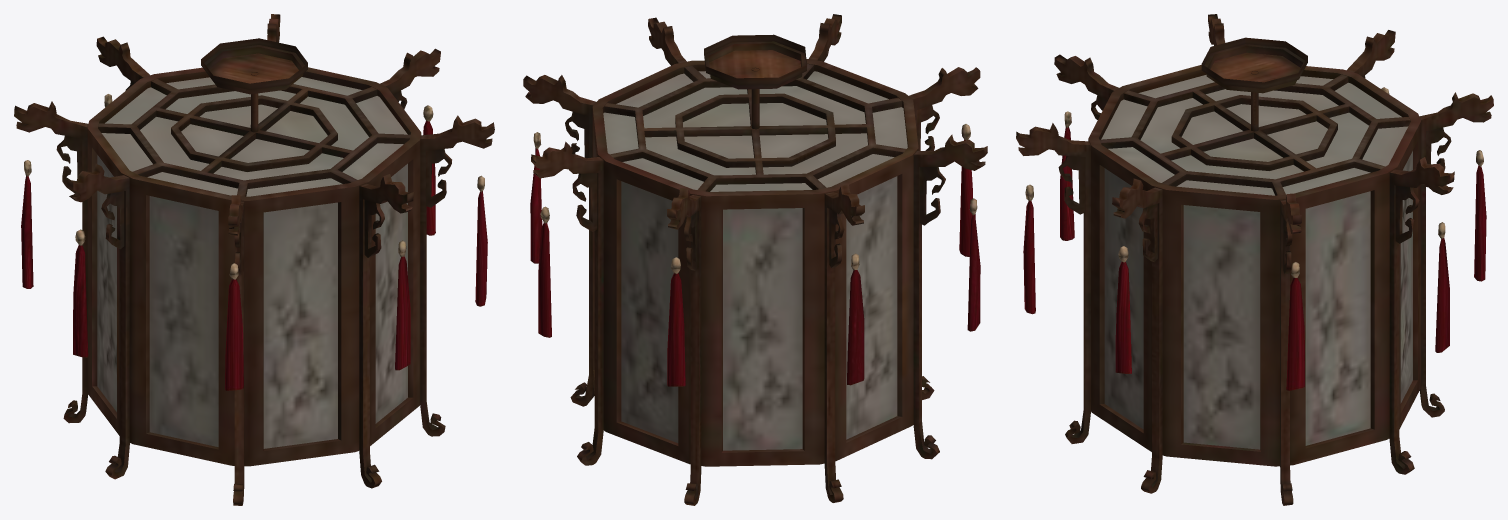
The model's file is chinese_chandelier.glb.
3 views of the same model, side by side, from view 1: azimuth 30°, elevation 25°; view 2: azimuth 150°, elevation 25°; view 3: azimuth 270°, elevation 25° (orthographic).
Parts seen in each view (by area): view 1: chinese_chandelier; view 2: chinese_chandelier; view 3: chinese_chandelier.
Part boxes in pixels (x1=…): chinese_chandelier: x1=14, y1=14, x2=494, y2=505; chinese_chandelier: x1=523, y1=14, x2=987, y2=505; chinese_chandelier: x1=1016, y1=14, x2=1493, y2=505.
Size of the model in its own units: 0.8772 by 0.7477 by 0.878.
1 material, 1 textured.
